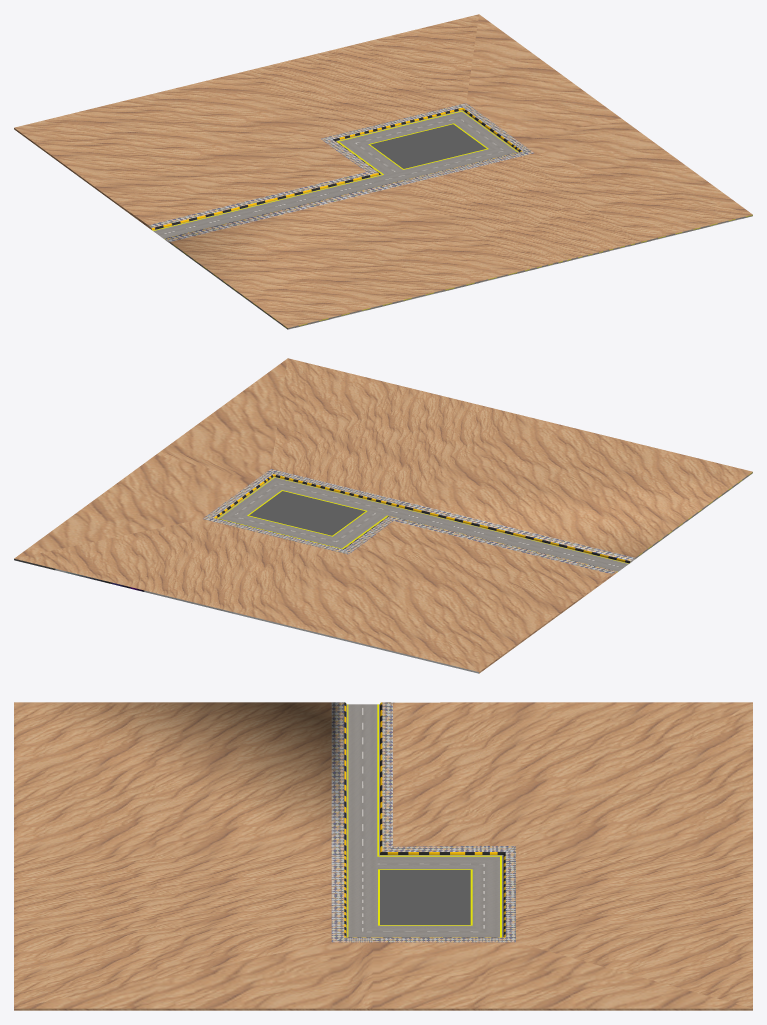
Rendered from halloween.fbx.
3 views of the same model, one above another, from view 1: azimuth 30°, elevation 25°; view 2: azimuth 150°, elevation 25°; view 3: azimuth 270°, elevation 25° (orthographic). The views are drawn at different scales.
Visible parts, largest first — view 1: road_ground.001; view 2: road_ground.001; view 3: road_ground.001.
Part boxes in pixels (<box>): road_ground.001: <box>14,14,752,329</box>; road_ground.001: <box>14,358,752,673</box>; road_ground.001: <box>14,702,752,1010</box>.
Bounding box in the file's own units: 1844 × 6.1 × 1881.
